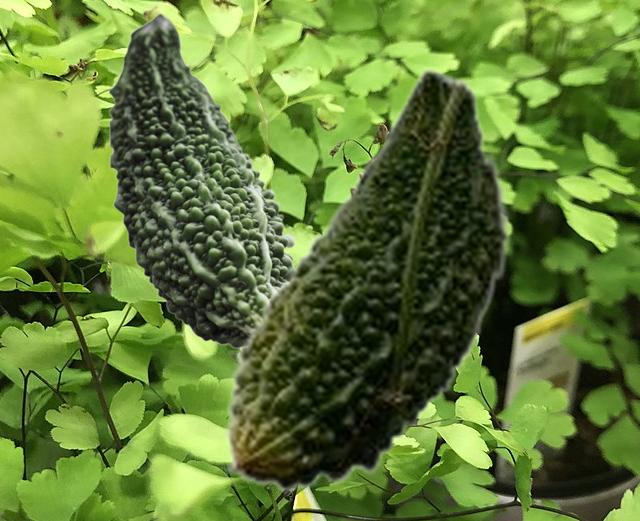ampalaya: (224, 67, 511, 492), (108, 12, 297, 348)
